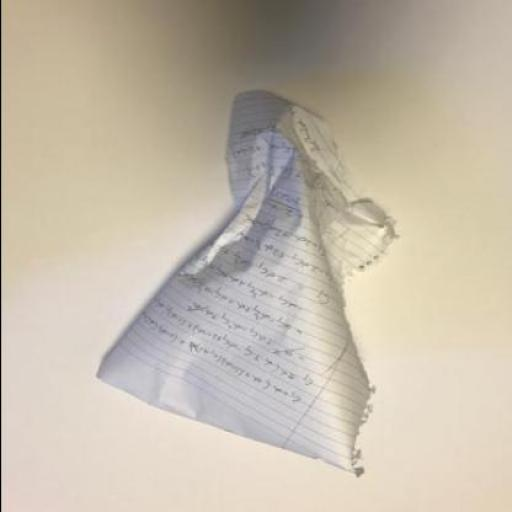paper: (93, 92, 391, 479)
